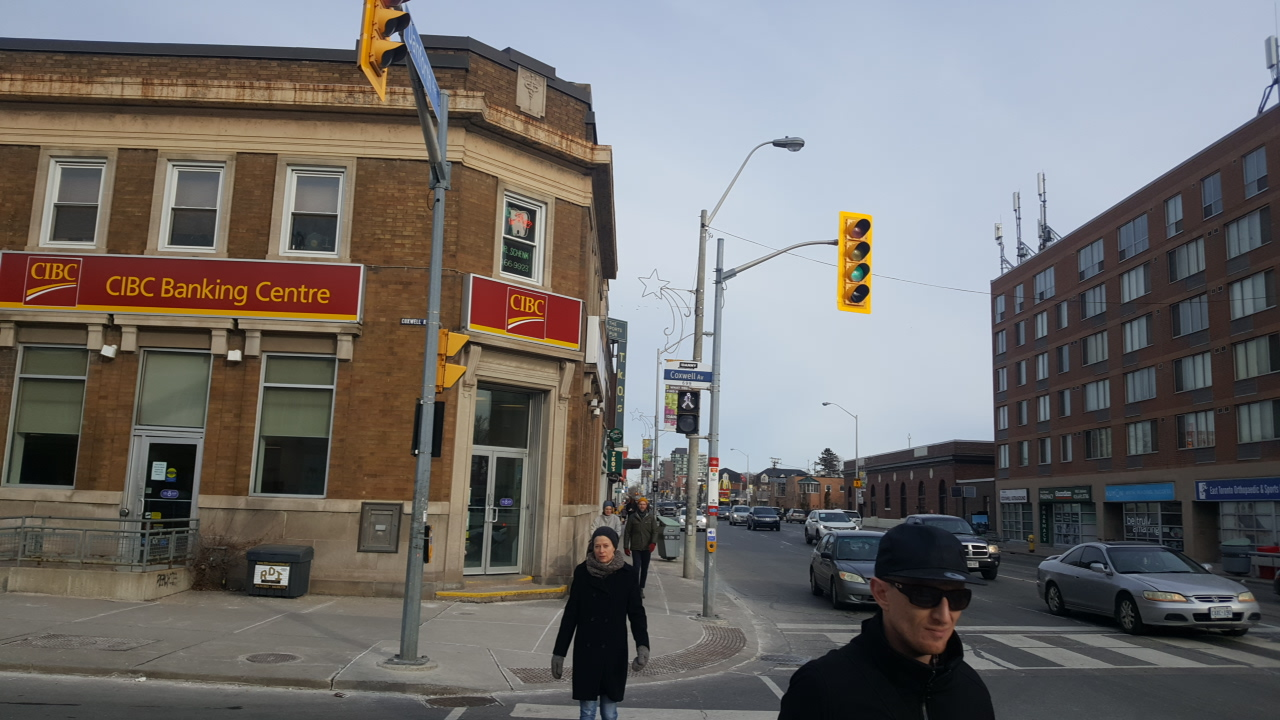light: (674, 382, 703, 438)
